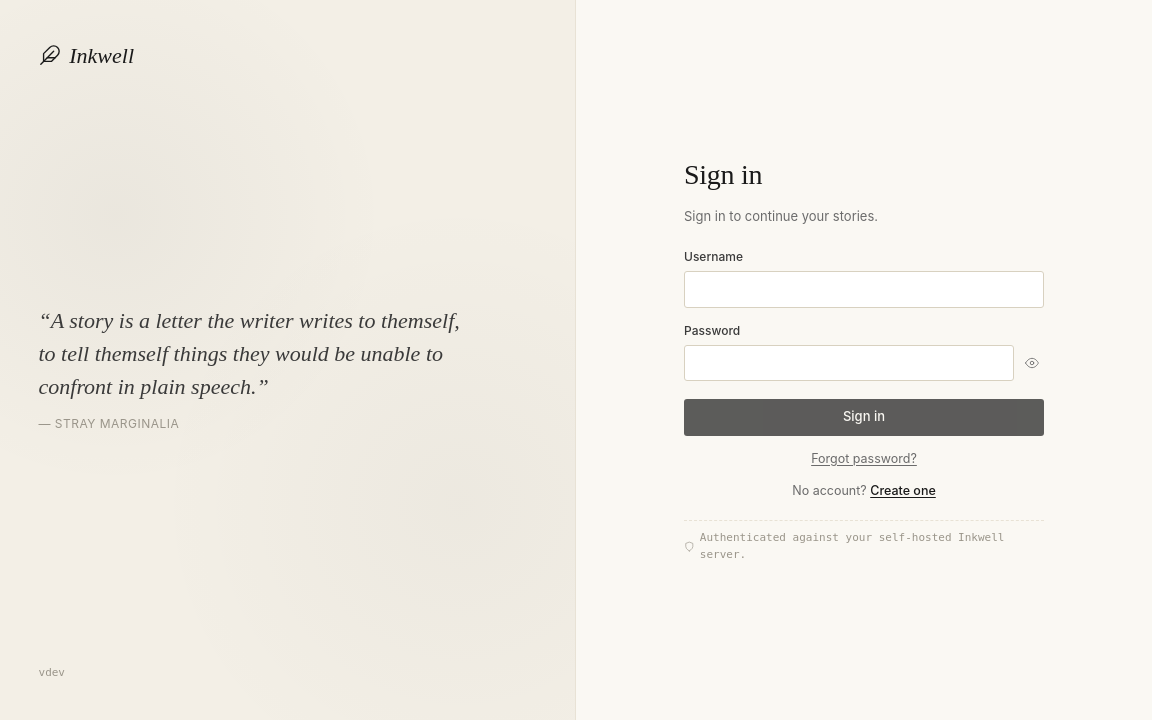
Test case: auth pages (F4) › login: 401 shows the friendly "Invalid username or password" message (not server message)
The width and height of the screenshot is (1152, 720).
Expected: the heading "Sign in" is shown, x1=684 y1=159 x2=762 y2=190
In the field labelled "Username": (864, 289) x1=684 y1=271 x2=1044 y2=308, type "alice"
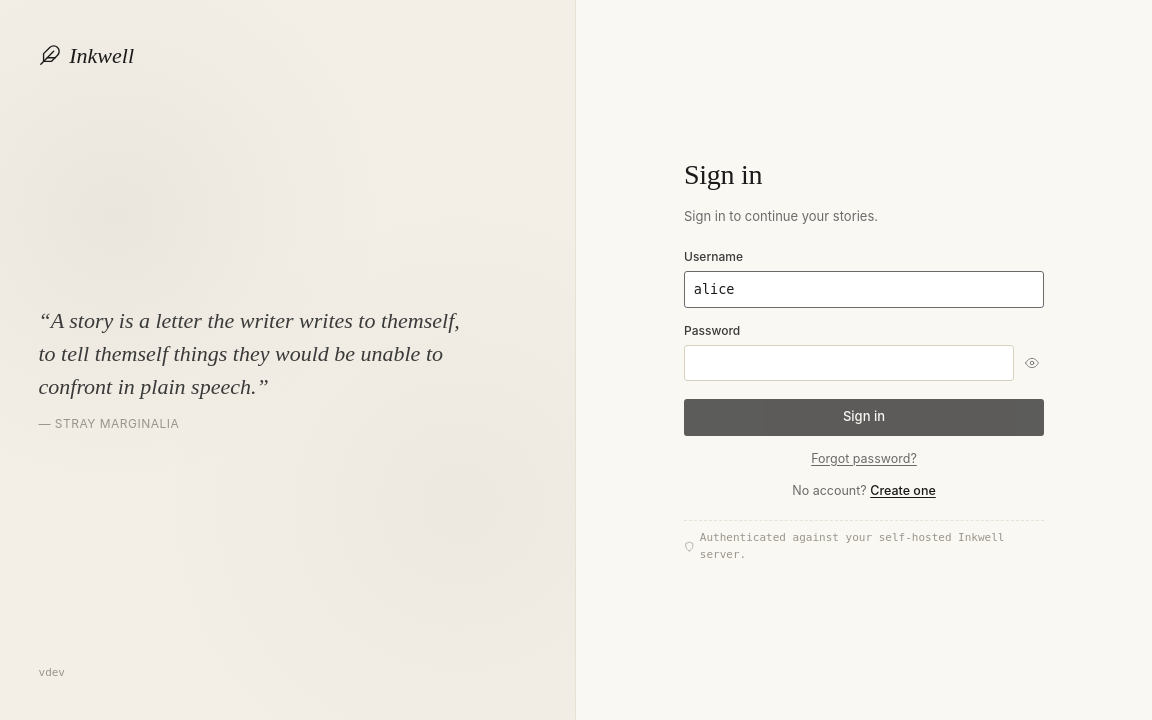
In the password field labelled "Password": (849, 363) x1=684 y1=345 x2=1014 y2=381, type "hunter2hunter2"
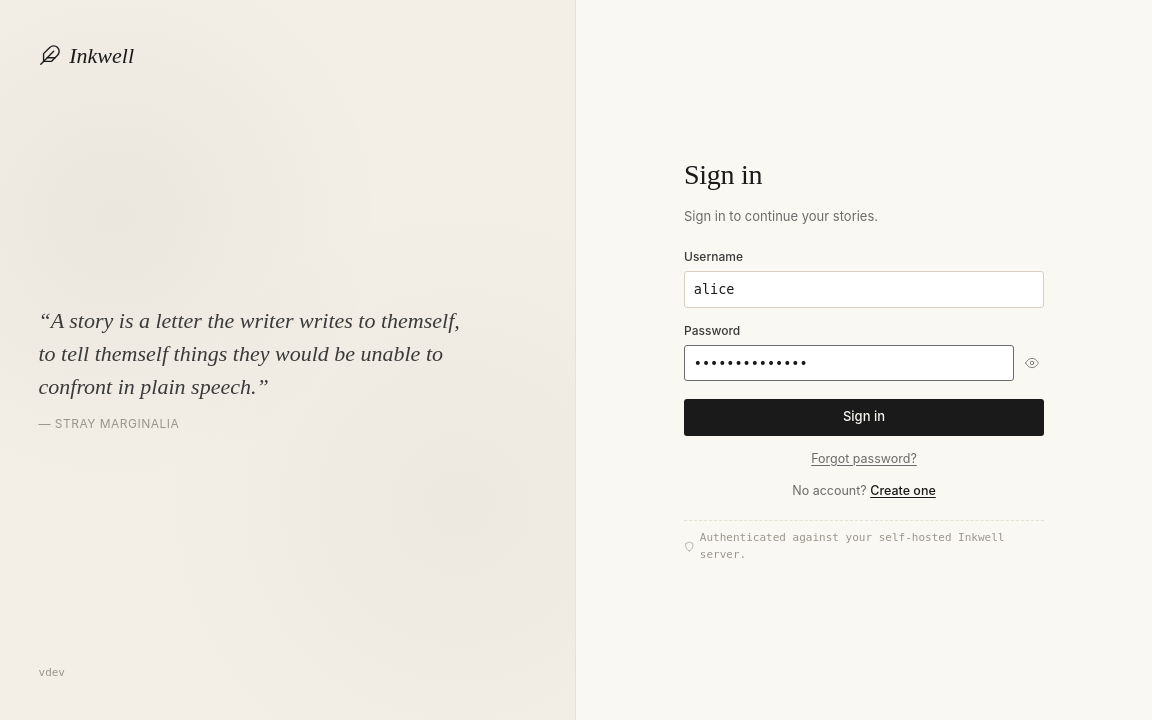
Click the button "Sign in": (864, 417) x1=684 y1=399 x2=1044 y2=436
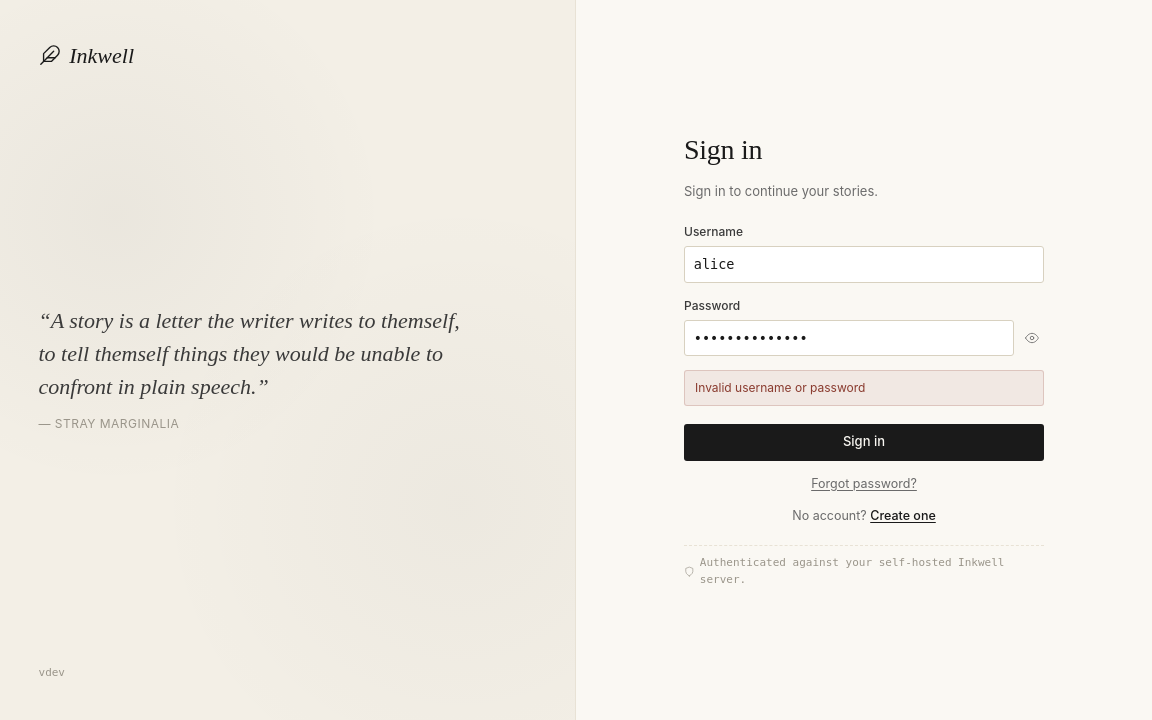
Expected: the heading "Sign in" is shown, x1=684 y1=134 x2=762 y2=165
Expected: the message reads "Invalid username or password", x1=695 y1=380 x2=865 y2=395
